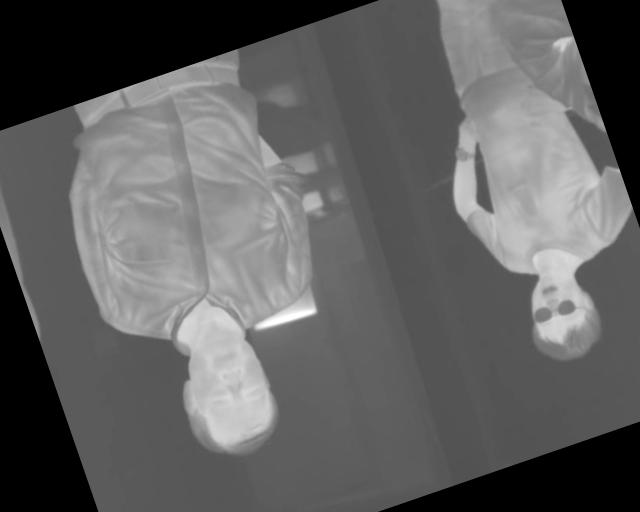face: (162, 318, 291, 471), (512, 257, 611, 371)
